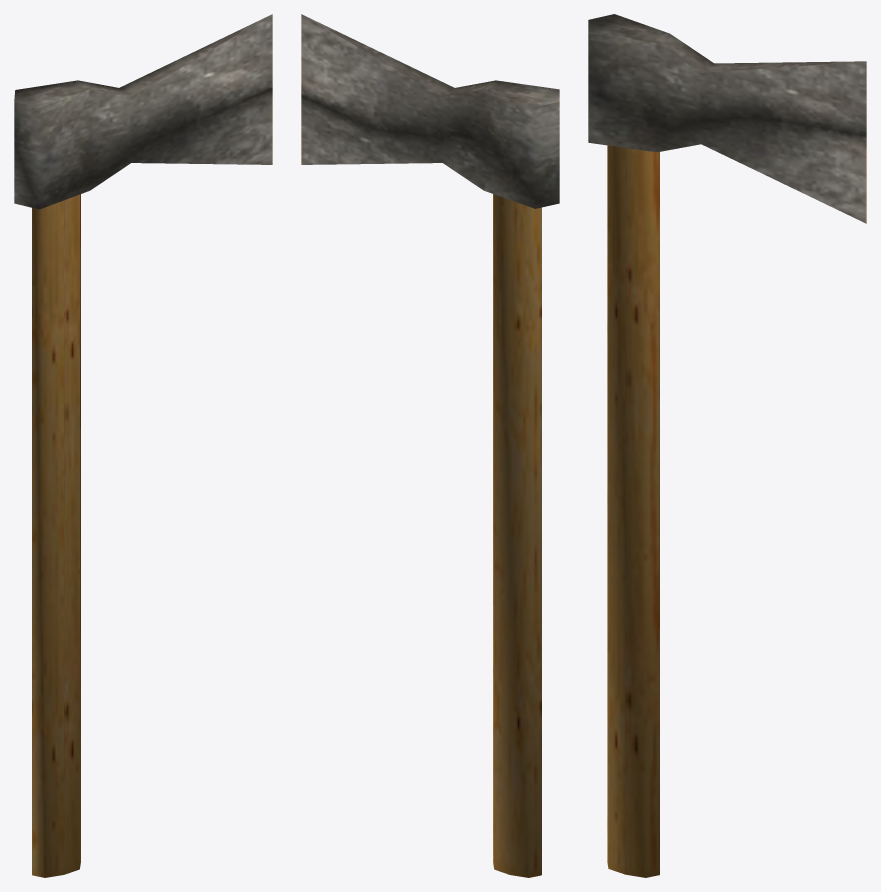
File: Hatchet.obj
The picture shows the model from 3 angles, left to right: view 1: azimuth 30°, elevation 25°; view 2: azimuth 150°, elevation 25°; view 3: azimuth 330°, elevation 25°; orthographic projection. The views are drawn at different scales.
Parts seen in each view (by area): view 1: Hatchet; view 2: Hatchet; view 3: Hatchet.
Part boxes in pixels (box(x1,y1,x2,y2)): Hatchet: box(14, 14, 272, 877); Hatchet: box(301, 14, 559, 877); Hatchet: box(588, 14, 866, 877).
Size of the model in its own units: 6.36 by 18.85 by 1.03.
Materials: 1 (1 with a texture image).
